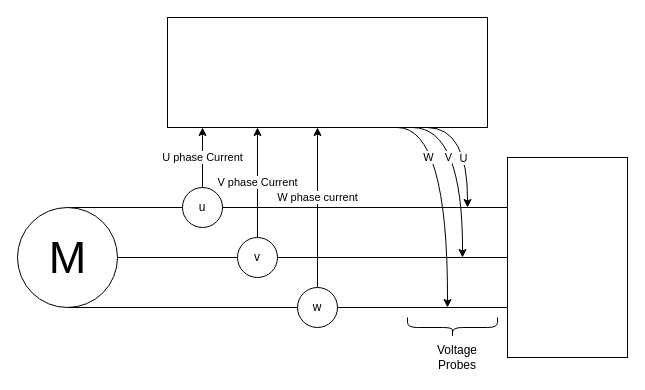
This 645x390 diagram has some shape labels left out. The centre of each missing label's shape, as x and y in pixels:
Dewetron: the point at 327,72
Inveter: the point at 567,257
